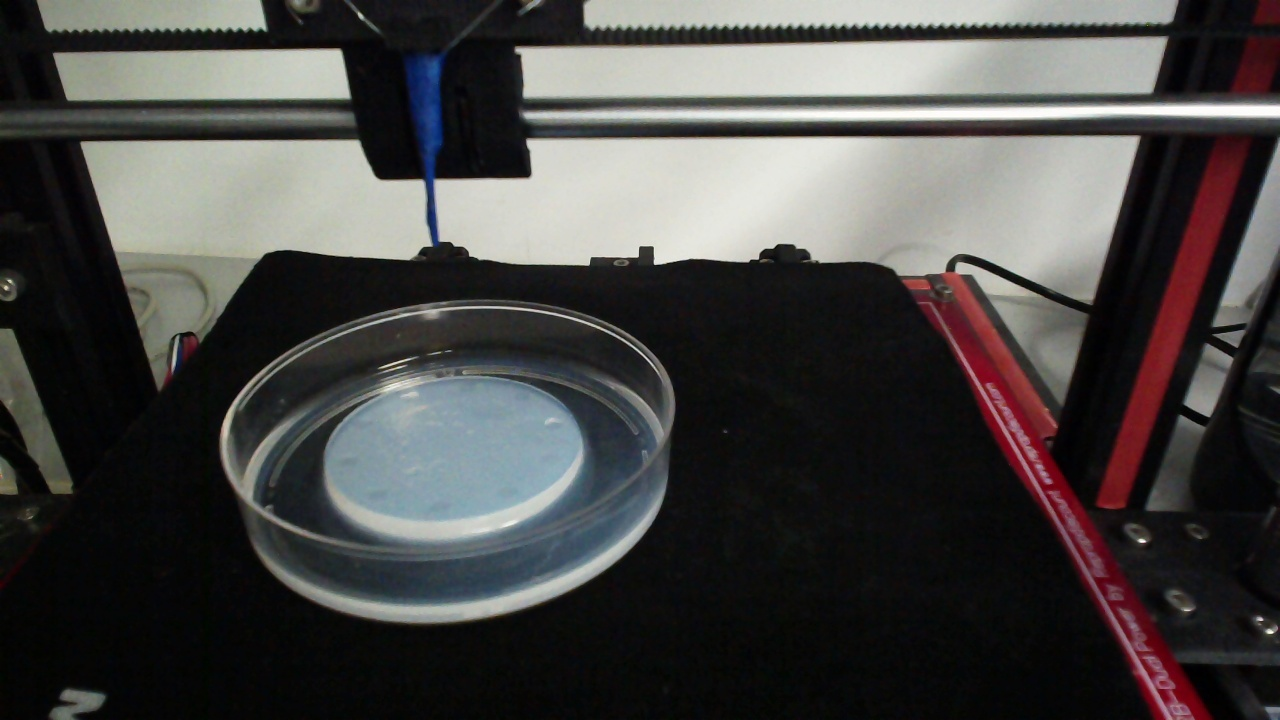groove: (495, 485, 521, 501), (540, 450, 564, 466), (542, 416, 566, 431), (363, 487, 388, 501), (428, 499, 451, 514), (398, 390, 420, 403), (338, 454, 358, 468), (354, 416, 375, 429), (513, 390, 532, 402), (457, 381, 475, 393)
needle: (402, 55, 440, 248)
